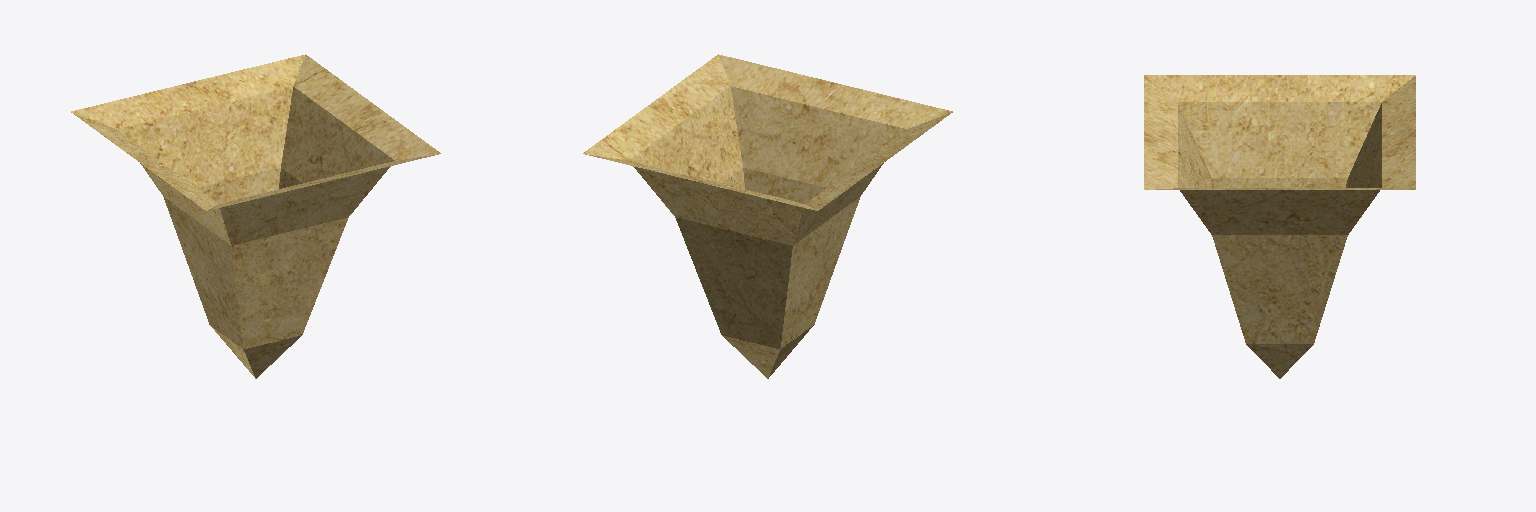
3 views of the same model, side by side, from view 1: azimuth 30°, elevation 25°; view 2: azimuth 150°, elevation 25°; view 3: azimuth 270°, elevation 25° (orthographic).
Visible parts, largest first — view 1: Grid_Grid.003; view 2: Grid_Grid.003; view 3: Grid_Grid.003.
Boxes of the visible parts, box(x1,y1,x2,y2) form: Grid_Grid.003: box(71, 54, 440, 378); Grid_Grid.003: box(583, 54, 952, 378); Grid_Grid.003: box(1144, 75, 1415, 378).
Size of the model in its own units: 1 by 1 by 1.
Materials: 1 (1 with a texture image).